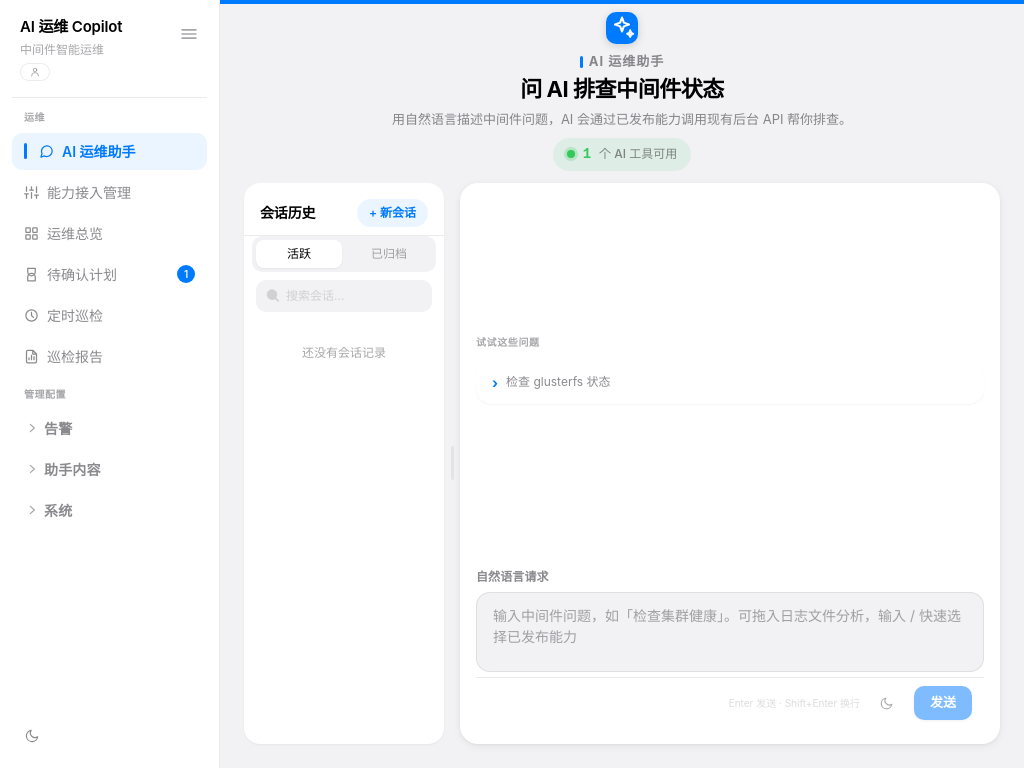
Test: Capability Console › shows character count when input has content
Type "检查集群健康" into the text box with test id "assistant-input" at (730, 632), box 476,592 -> 984,672
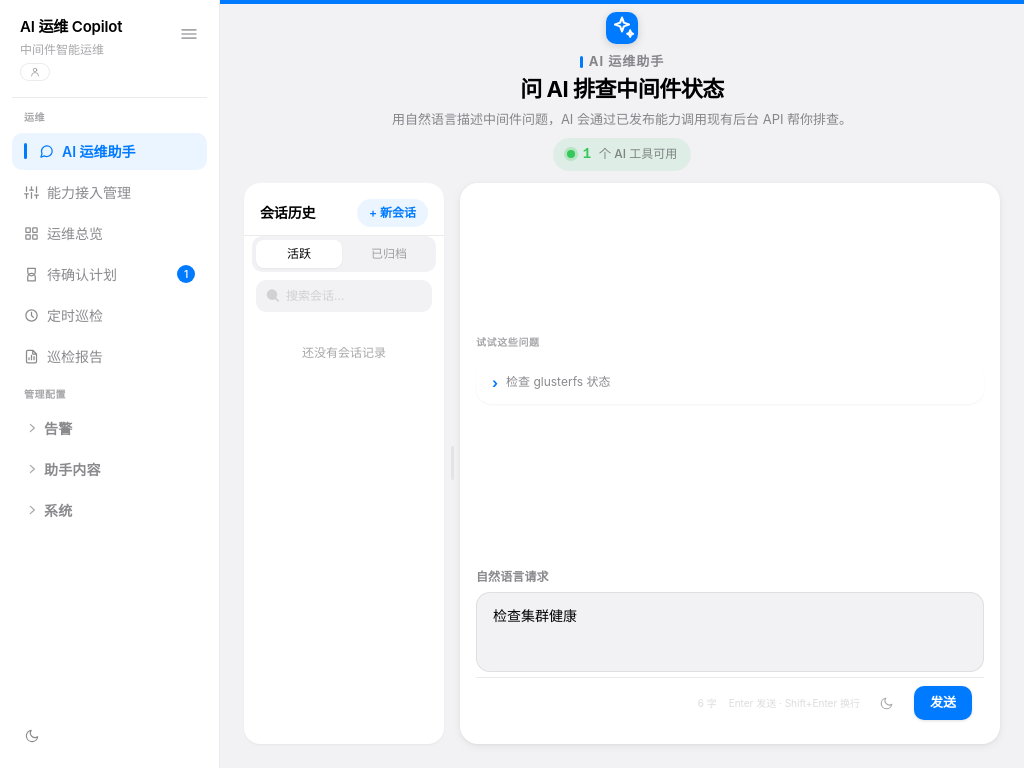
Expected: the text "6 字" is shown, 698,696 -> 717,711
Expected: the text with test id "assistant-char-count" reads "6 字", 698,697 -> 717,709
